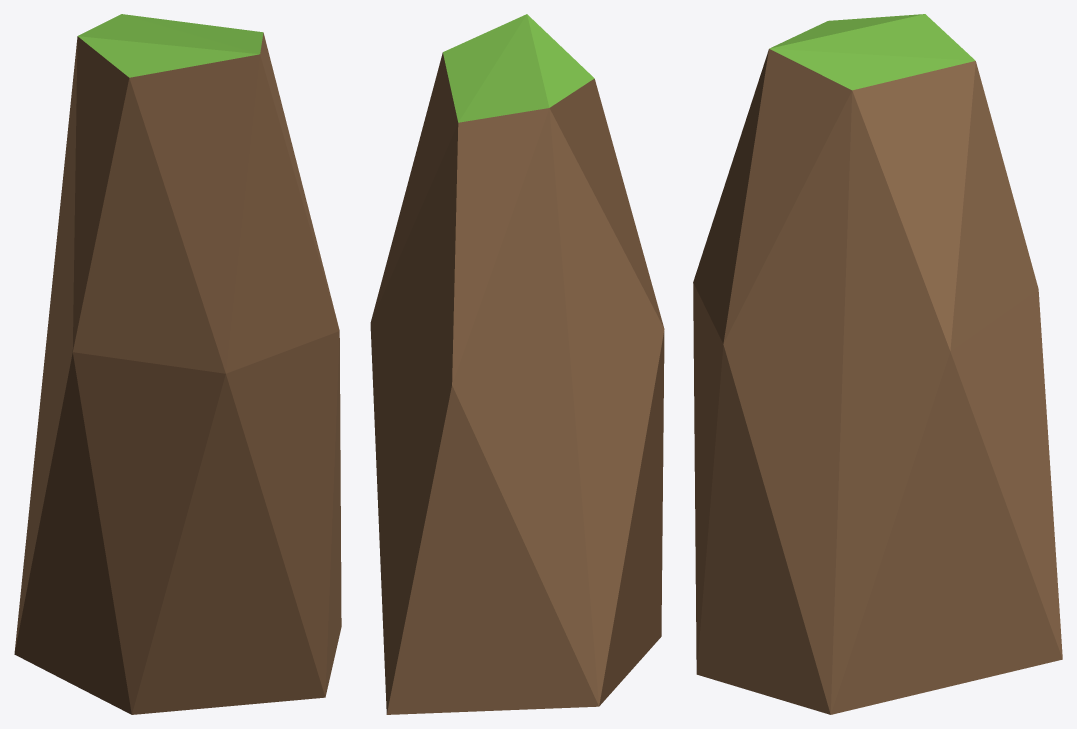
File: rock_tallG.glb
The picture shows the model from 3 angles, left to right: view 1: azimuth 30°, elevation 25°; view 2: azimuth 150°, elevation 25°; view 3: azimuth 270°, elevation 25°; orthographic projection. The views are drawn at different scales.
Parts seen in each view (by area): view 1: rock_tallG; view 2: rock_tallG; view 3: rock_tallG.
Part boxes in pixels (x1,y1,x2,y2): rock_tallG: (14, 14, 341, 714); rock_tallG: (370, 14, 664, 714); rock_tallG: (693, 14, 1062, 714).
Size of the model in its own units: 0.3572 by 0.7642 by 0.4182.
Materials: 1 (1 with a texture image).
